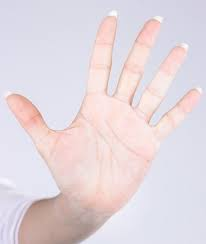palm: (3, 7, 206, 224)
